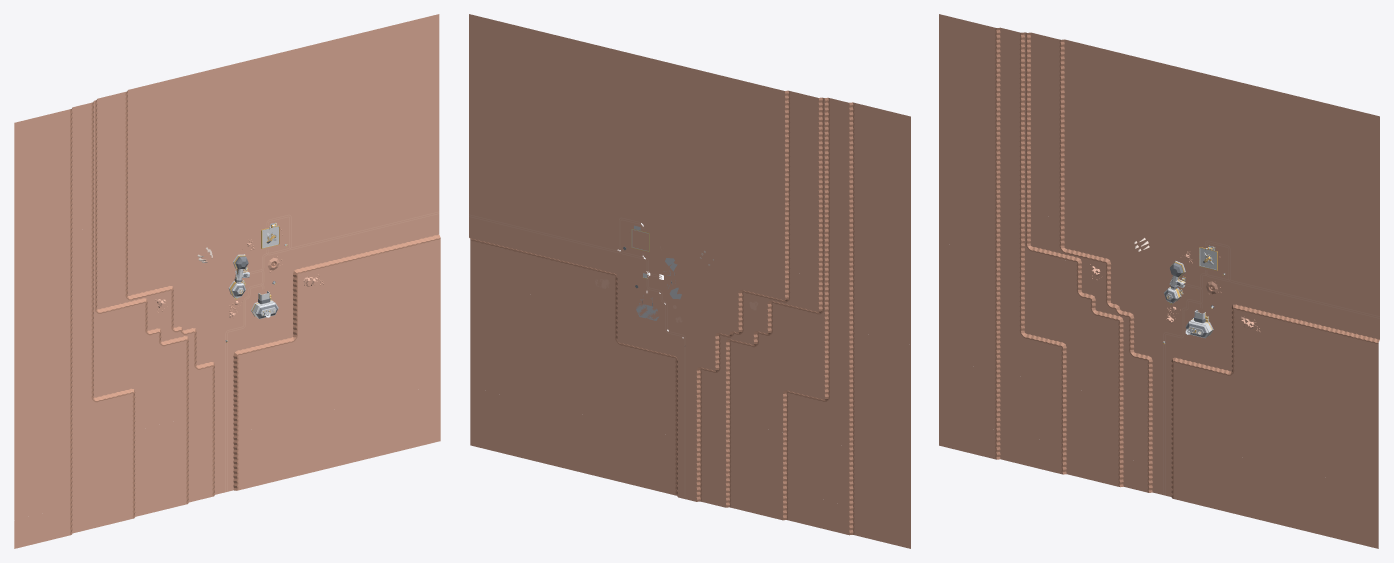
File: moon-base.glb
The picture shows the model from 3 angles, left to right: view 1: azimuth 30°, elevation 25°; view 2: azimuth 150°, elevation 25°; view 3: azimuth 330°, elevation 25°; orthographic projection.
Size of the model in its own units: 94 by 89 by 3.88.
